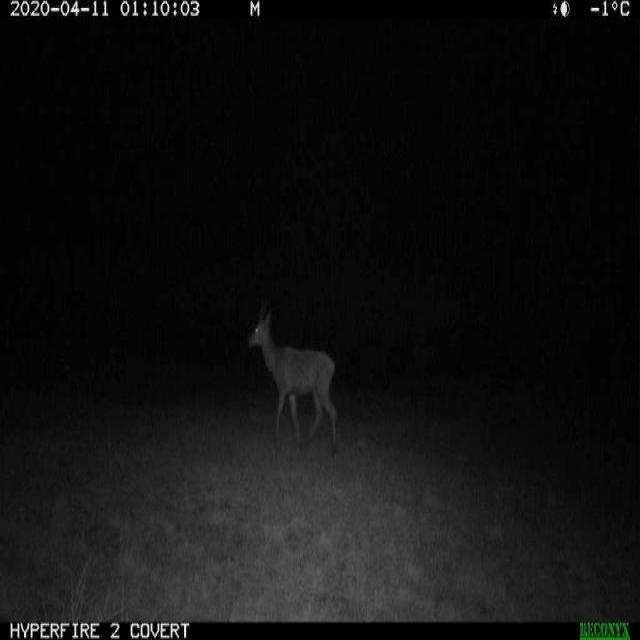deer: (234, 289, 350, 476)
